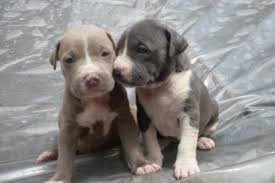Perro Pitbull: (113, 14, 205, 101), (50, 18, 121, 97)
